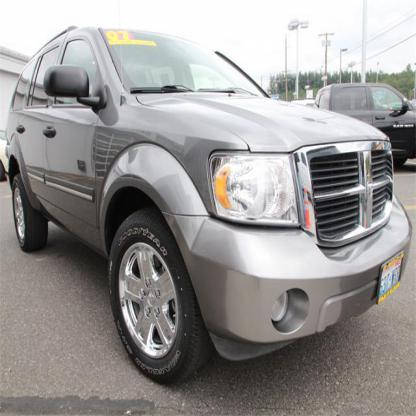Vehicle: (6, 27, 413, 385)
